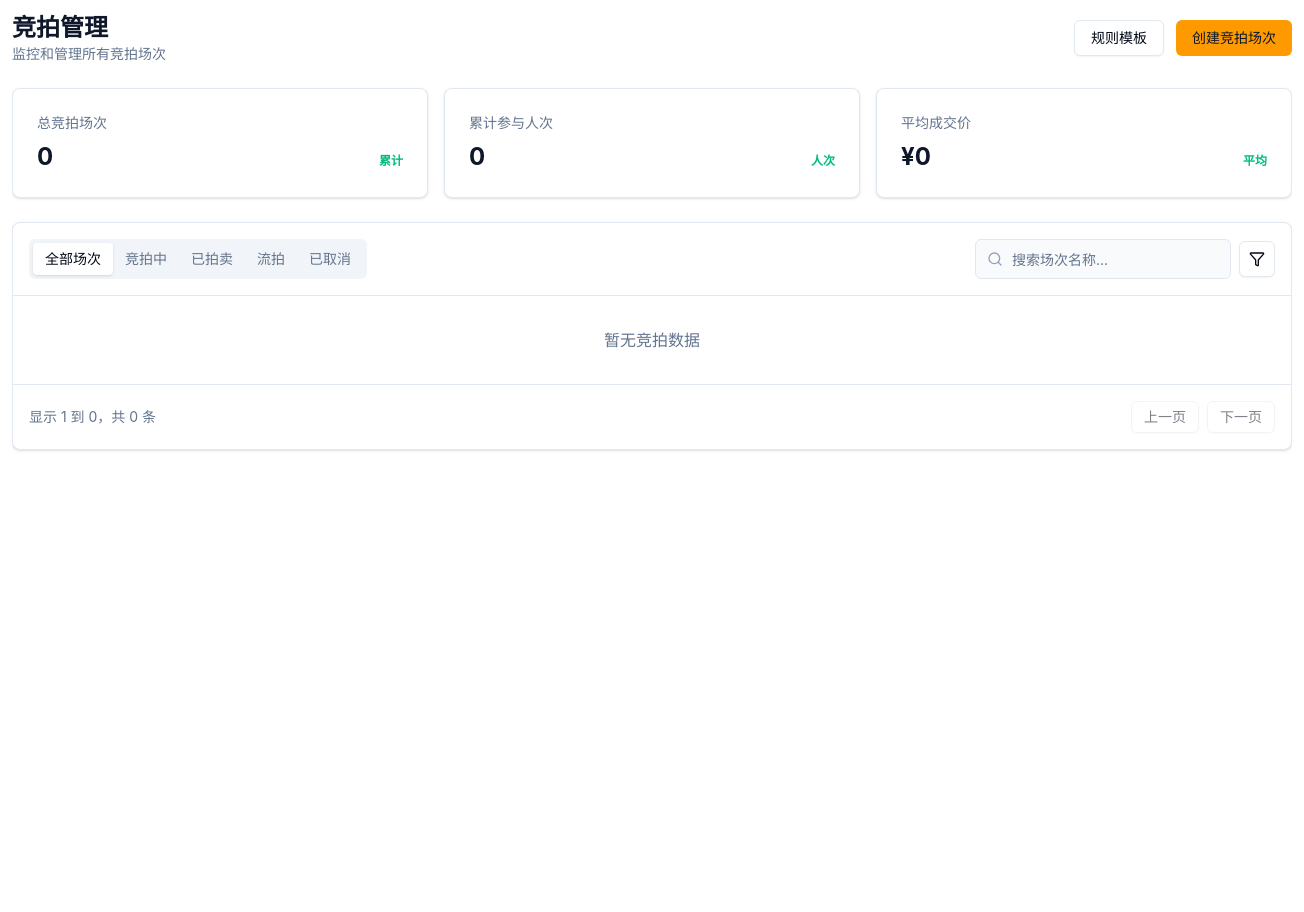
Test case: AuctionList create auction with rule template › only lists schedulable products in create auction selector
This screenshot has width=1304, height=912.
Click the button "创建竞拍场次" at coordinates (1234, 38), box [1176,20,1292,56]
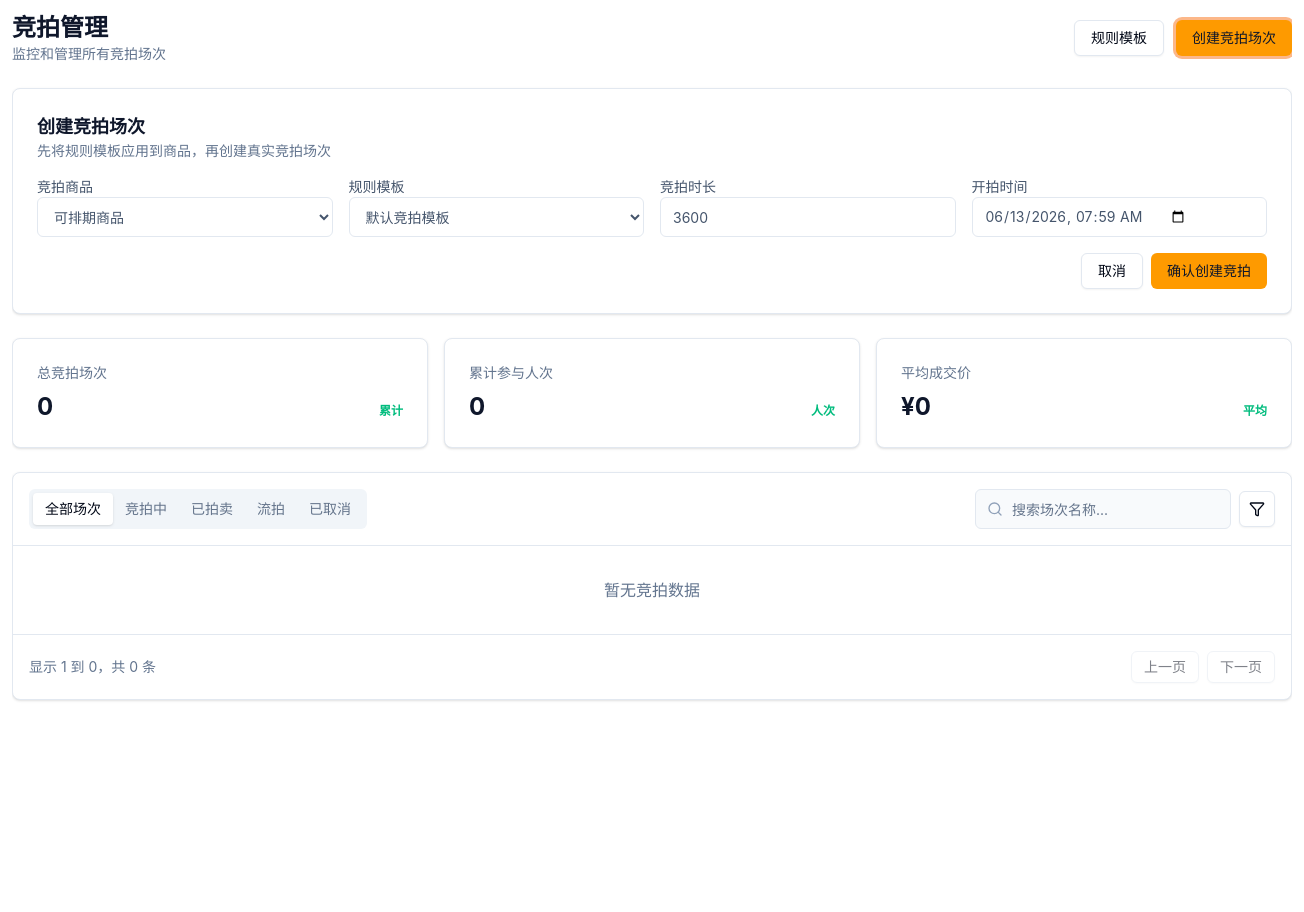
Expected: the dropdown labelled "竞拍商品" shows "可排期商品", [37,197,332,237]
